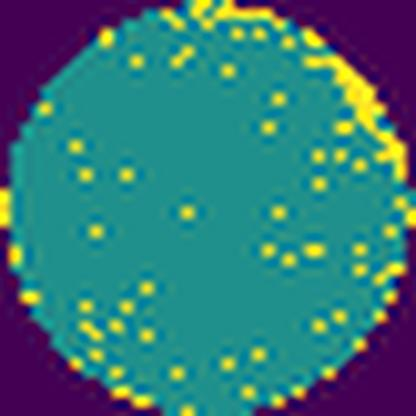Edge-Loc: (298, 46, 415, 188), (211, 0, 288, 32)
